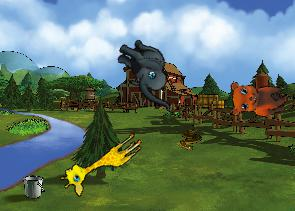bear: (225, 70, 291, 123)
elephant: (104, 34, 189, 112)
giraffe: (56, 122, 146, 200)
